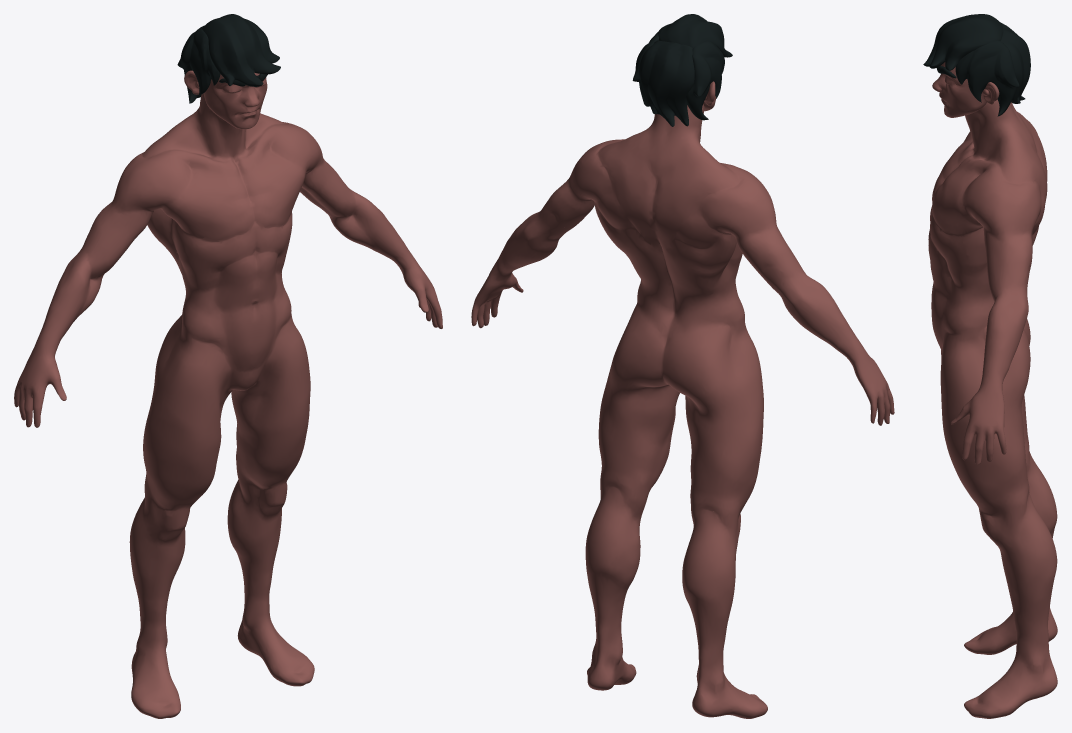
The model's file is male_t_pose11.glb.
3 renders of one model, left to right at view 1: azimuth 30°, elevation 25°; view 2: azimuth 150°, elevation 25°; view 3: azimuth 270°, elevation 25°, orthographic. The views are drawn at different scales.
Parts seen in each view (by area): view 1: Object_2; view 2: Object_2; view 3: Object_2.
Boxes of the visible parts, left/top/right/bottom form: Object_2: left=14, top=14, right=442, bottom=718; Object_2: left=471, top=14, right=894, bottom=718; Object_2: left=923, top=14, right=1057, bottom=718.
Bounding box in the file's own units: 6.88 × 10.88 × 1.99.
